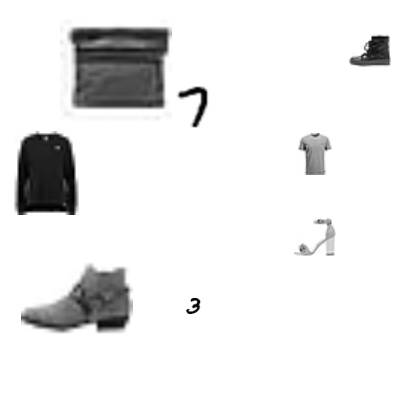3: (183, 295, 205, 317)
7: (169, 73, 225, 129)
Ankle_boot: (21, 240, 133, 352), (349, 29, 391, 71)
Bag: (60, 12, 172, 124)
Pullover: (3, 131, 87, 215)
Sandal: (294, 215, 336, 257)
T-shirt/top: (294, 133, 336, 175)
